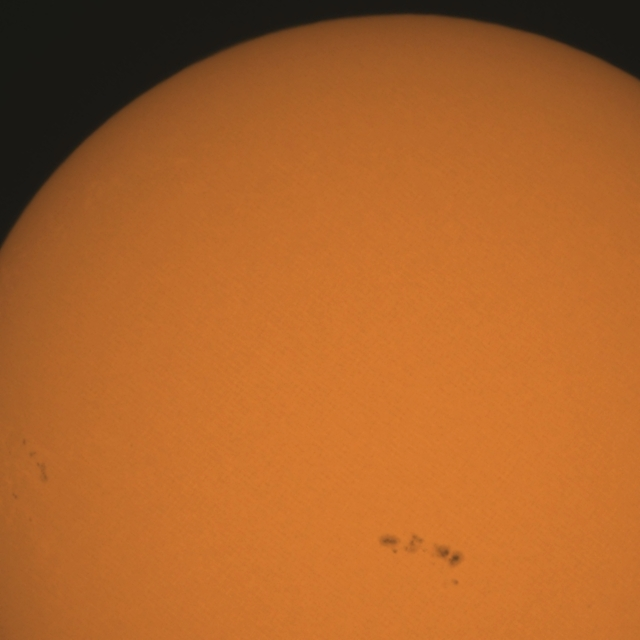sunspot: (396, 532, 463, 572), (377, 532, 431, 556), (32, 454, 50, 484), (450, 577, 460, 587), (11, 492, 19, 500), (27, 516, 33, 524)
